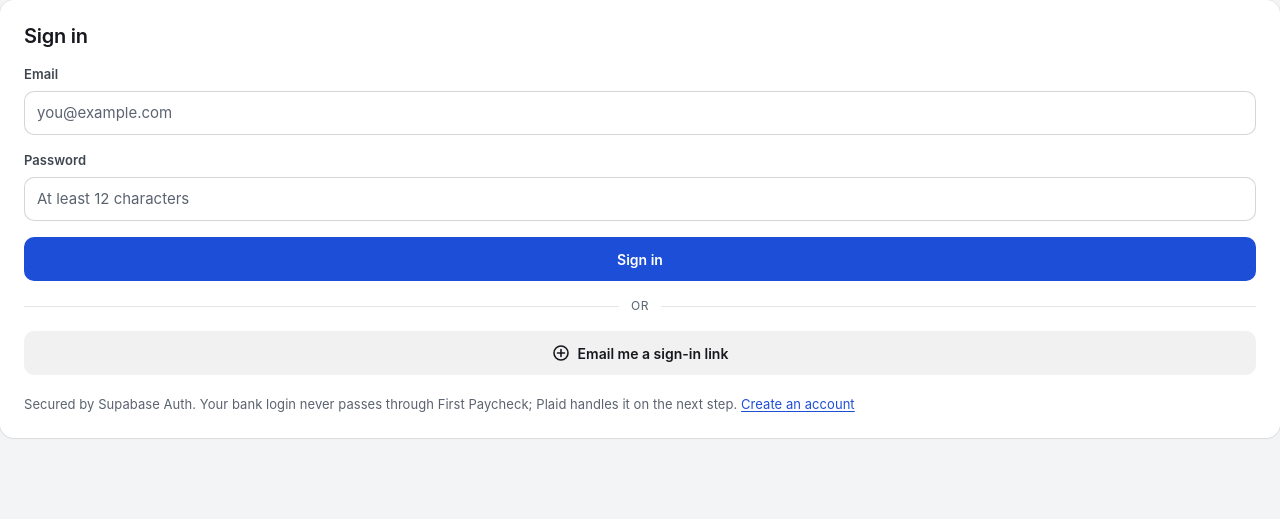
Test: AuthForm, sign in › reports a failed link request
Type "alex@example.com" into the field labelled "Email". click: (640, 113)
box: [24,90,1256,135]
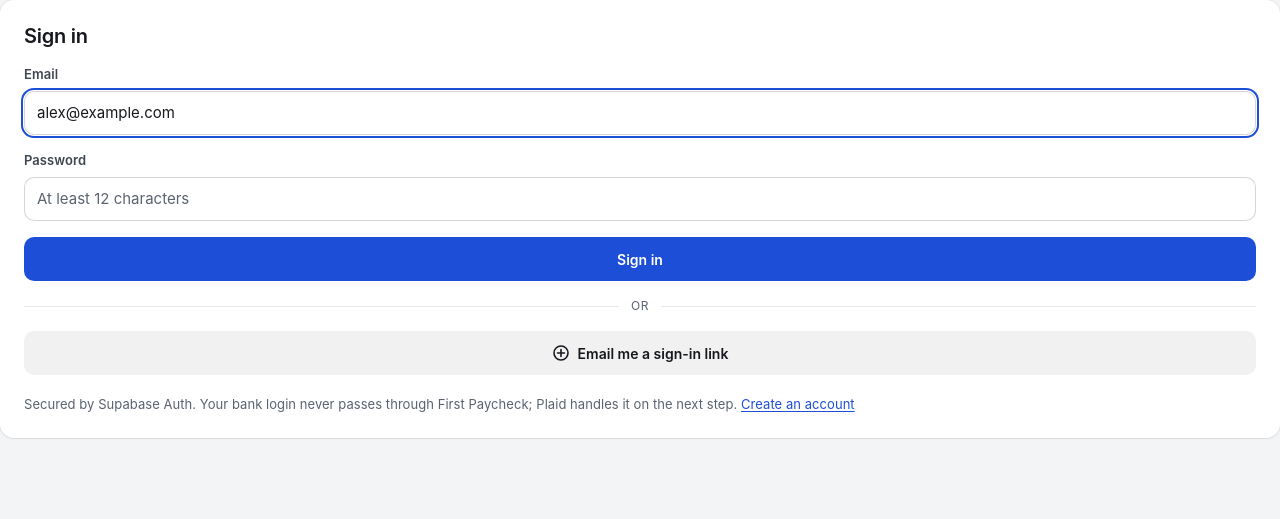
Click the button "Email me a sign-in link". click: (640, 353)
box: [24,331,1256,375]
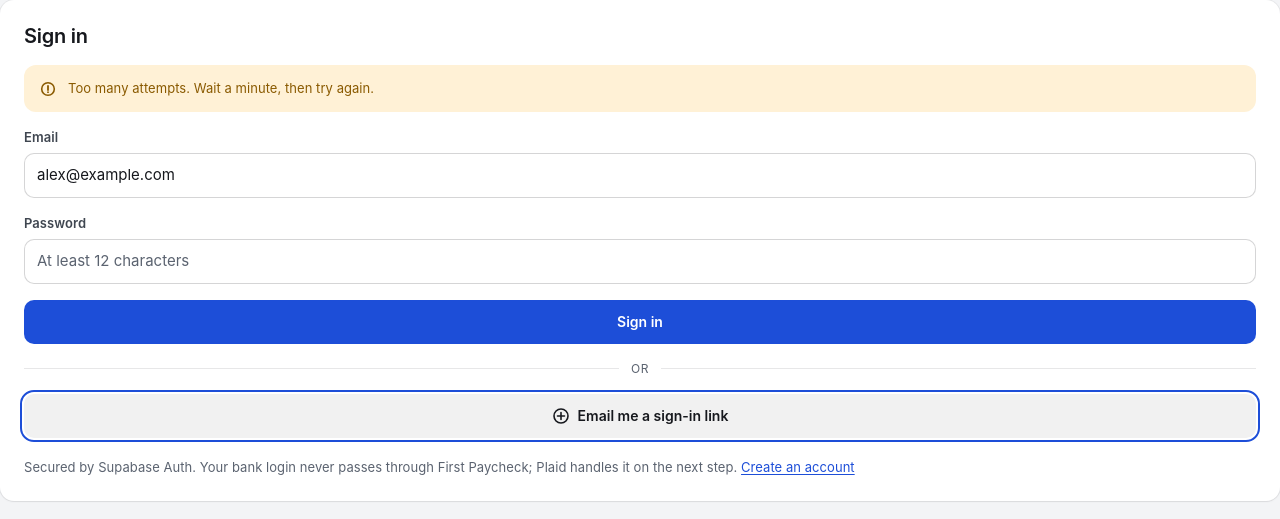
Expected: the message reads "Too many attempts. Wait a minute, then try again.", [68,80,374,96]
